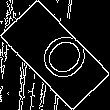O_SW: (22, 22, 88, 88)
